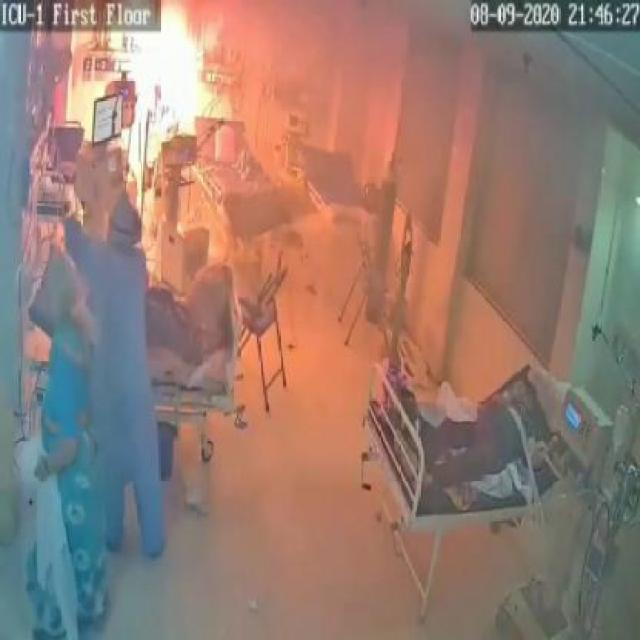fire: (111, 8, 232, 181)
smoke: (242, 8, 624, 184)
